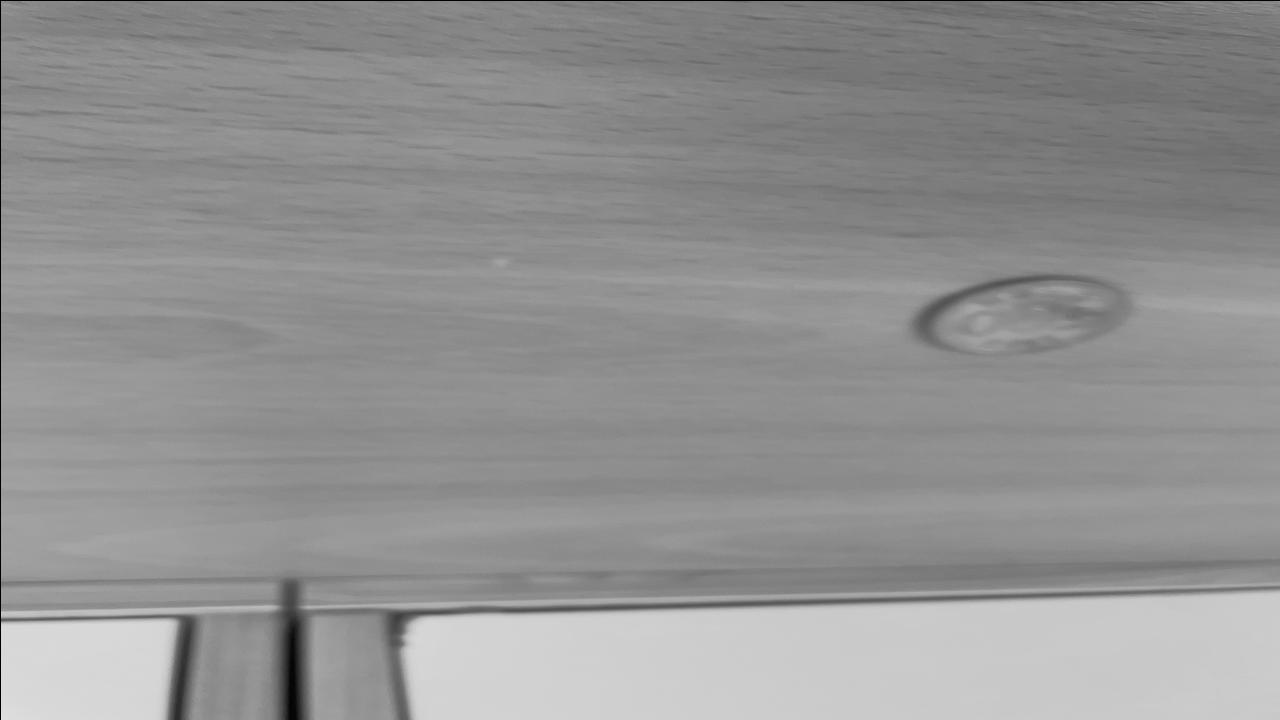coin: (918, 274, 1136, 356)
